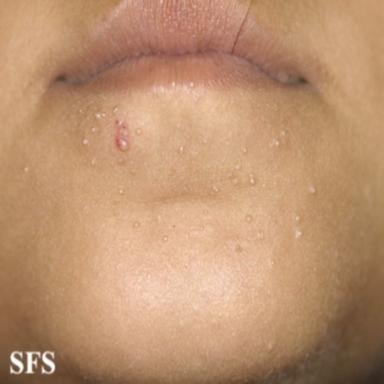Molluscum-Contagiosum: (115, 119, 130, 151), (95, 112, 106, 119), (250, 174, 256, 185), (295, 230, 303, 238), (245, 214, 252, 223), (267, 342, 274, 350), (257, 232, 264, 240), (309, 186, 316, 194), (294, 215, 301, 222), (83, 139, 89, 146), (133, 221, 139, 228), (235, 245, 242, 251), (269, 260, 275, 267), (179, 146, 184, 154), (136, 128, 142, 134), (233, 178, 238, 185), (91, 126, 96, 132), (113, 107, 119, 112), (119, 189, 124, 195), (213, 186, 218, 192), (227, 172, 233, 177), (275, 140, 280, 146), (24, 167, 29, 172), (163, 236, 168, 241), (235, 164, 240, 169), (91, 159, 95, 165), (243, 147, 247, 153), (281, 131, 286, 135), (274, 181, 277, 186), (190, 82, 193, 87), (172, 82, 175, 87), (204, 140, 206, 143)
